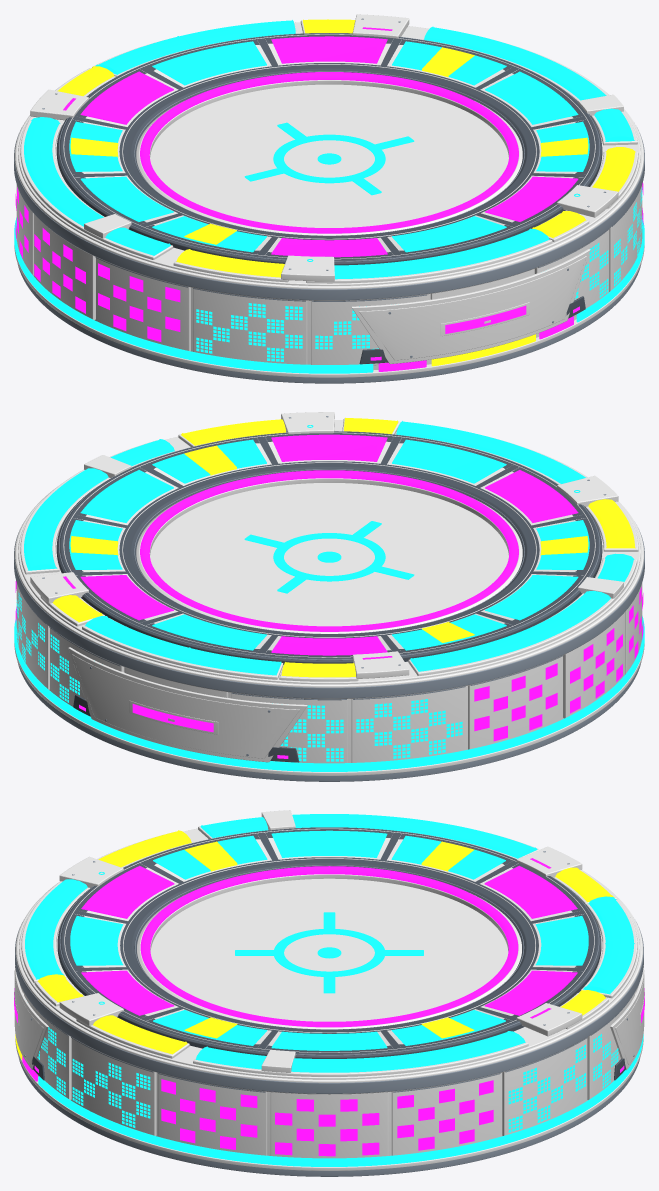
The model's file is Striker.fbx.
The picture shows the model from 3 angles, top to bottom: view 1: azimuth 30°, elevation 25°; view 2: azimuth 150°, elevation 25°; view 3: azimuth 270°, elevation 25°; orthographic projection.
Visible parts, largest first — view 1: SM_Puck_Striker_RetroArcade; view 2: SM_Puck_Striker_RetroArcade; view 3: SM_Puck_Striker_RetroArcade.
Part boxes in pixels (x1,y1,x2,y2): SM_Puck_Striker_RetroArcade: (14,14,644,383); SM_Puck_Striker_RetroArcade: (14,412,644,781); SM_Puck_Striker_RetroArcade: (14,810,644,1176).
Bounding box in the file's own units: 82.8 × 83.06 × 16.4.
